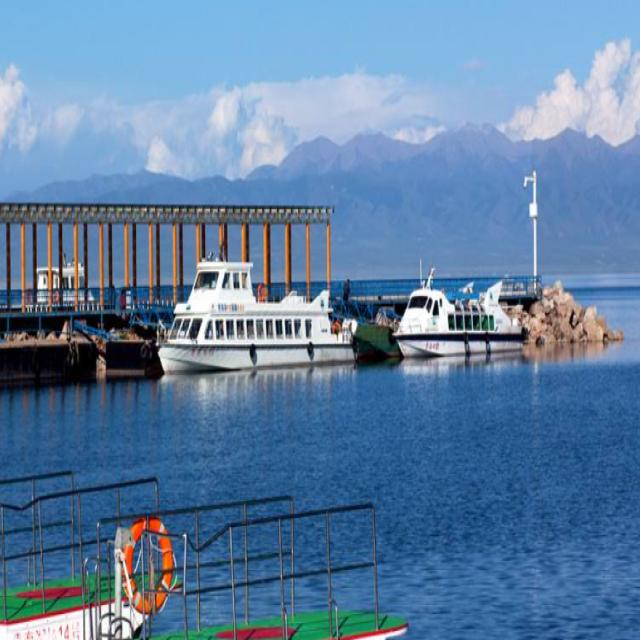houseboat: (160, 254, 347, 370), (393, 272, 518, 364), (24, 253, 93, 316)
